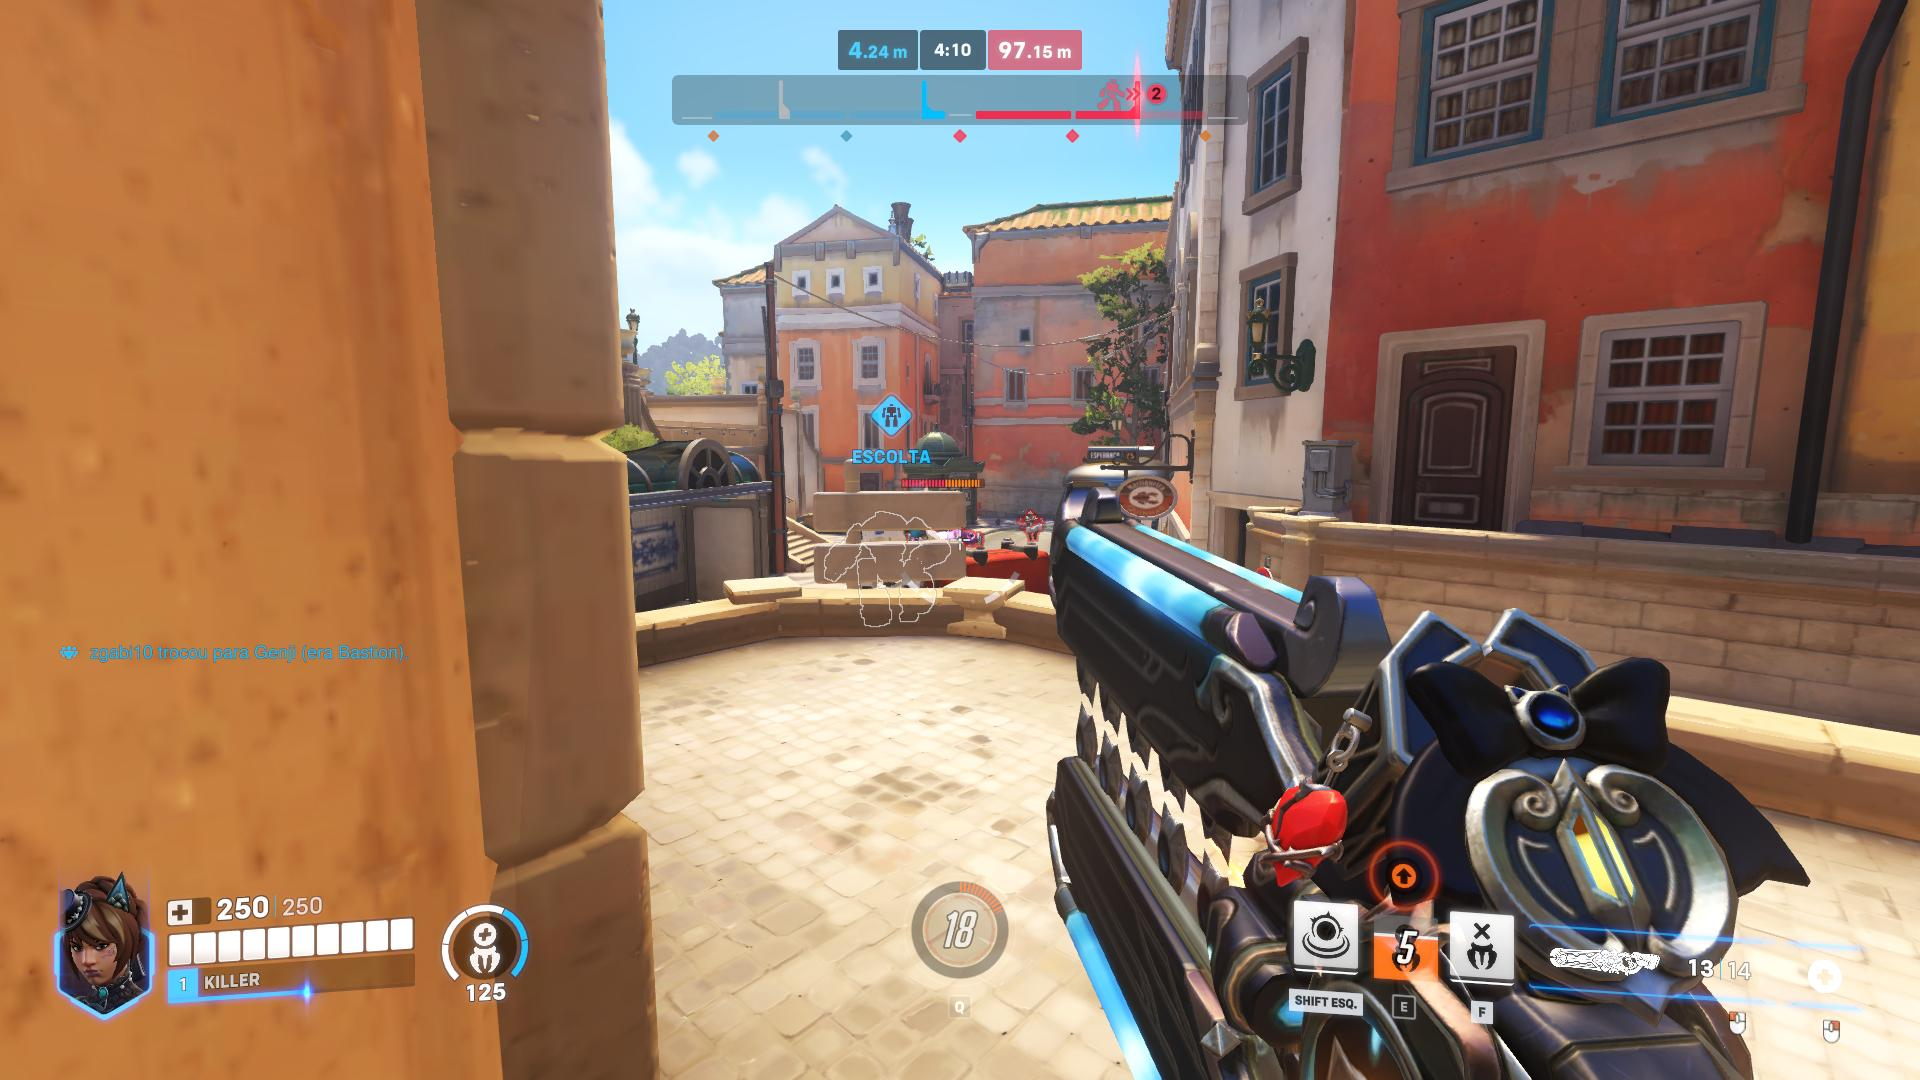enemy: (1023, 509, 1042, 542), (963, 529, 985, 547)
